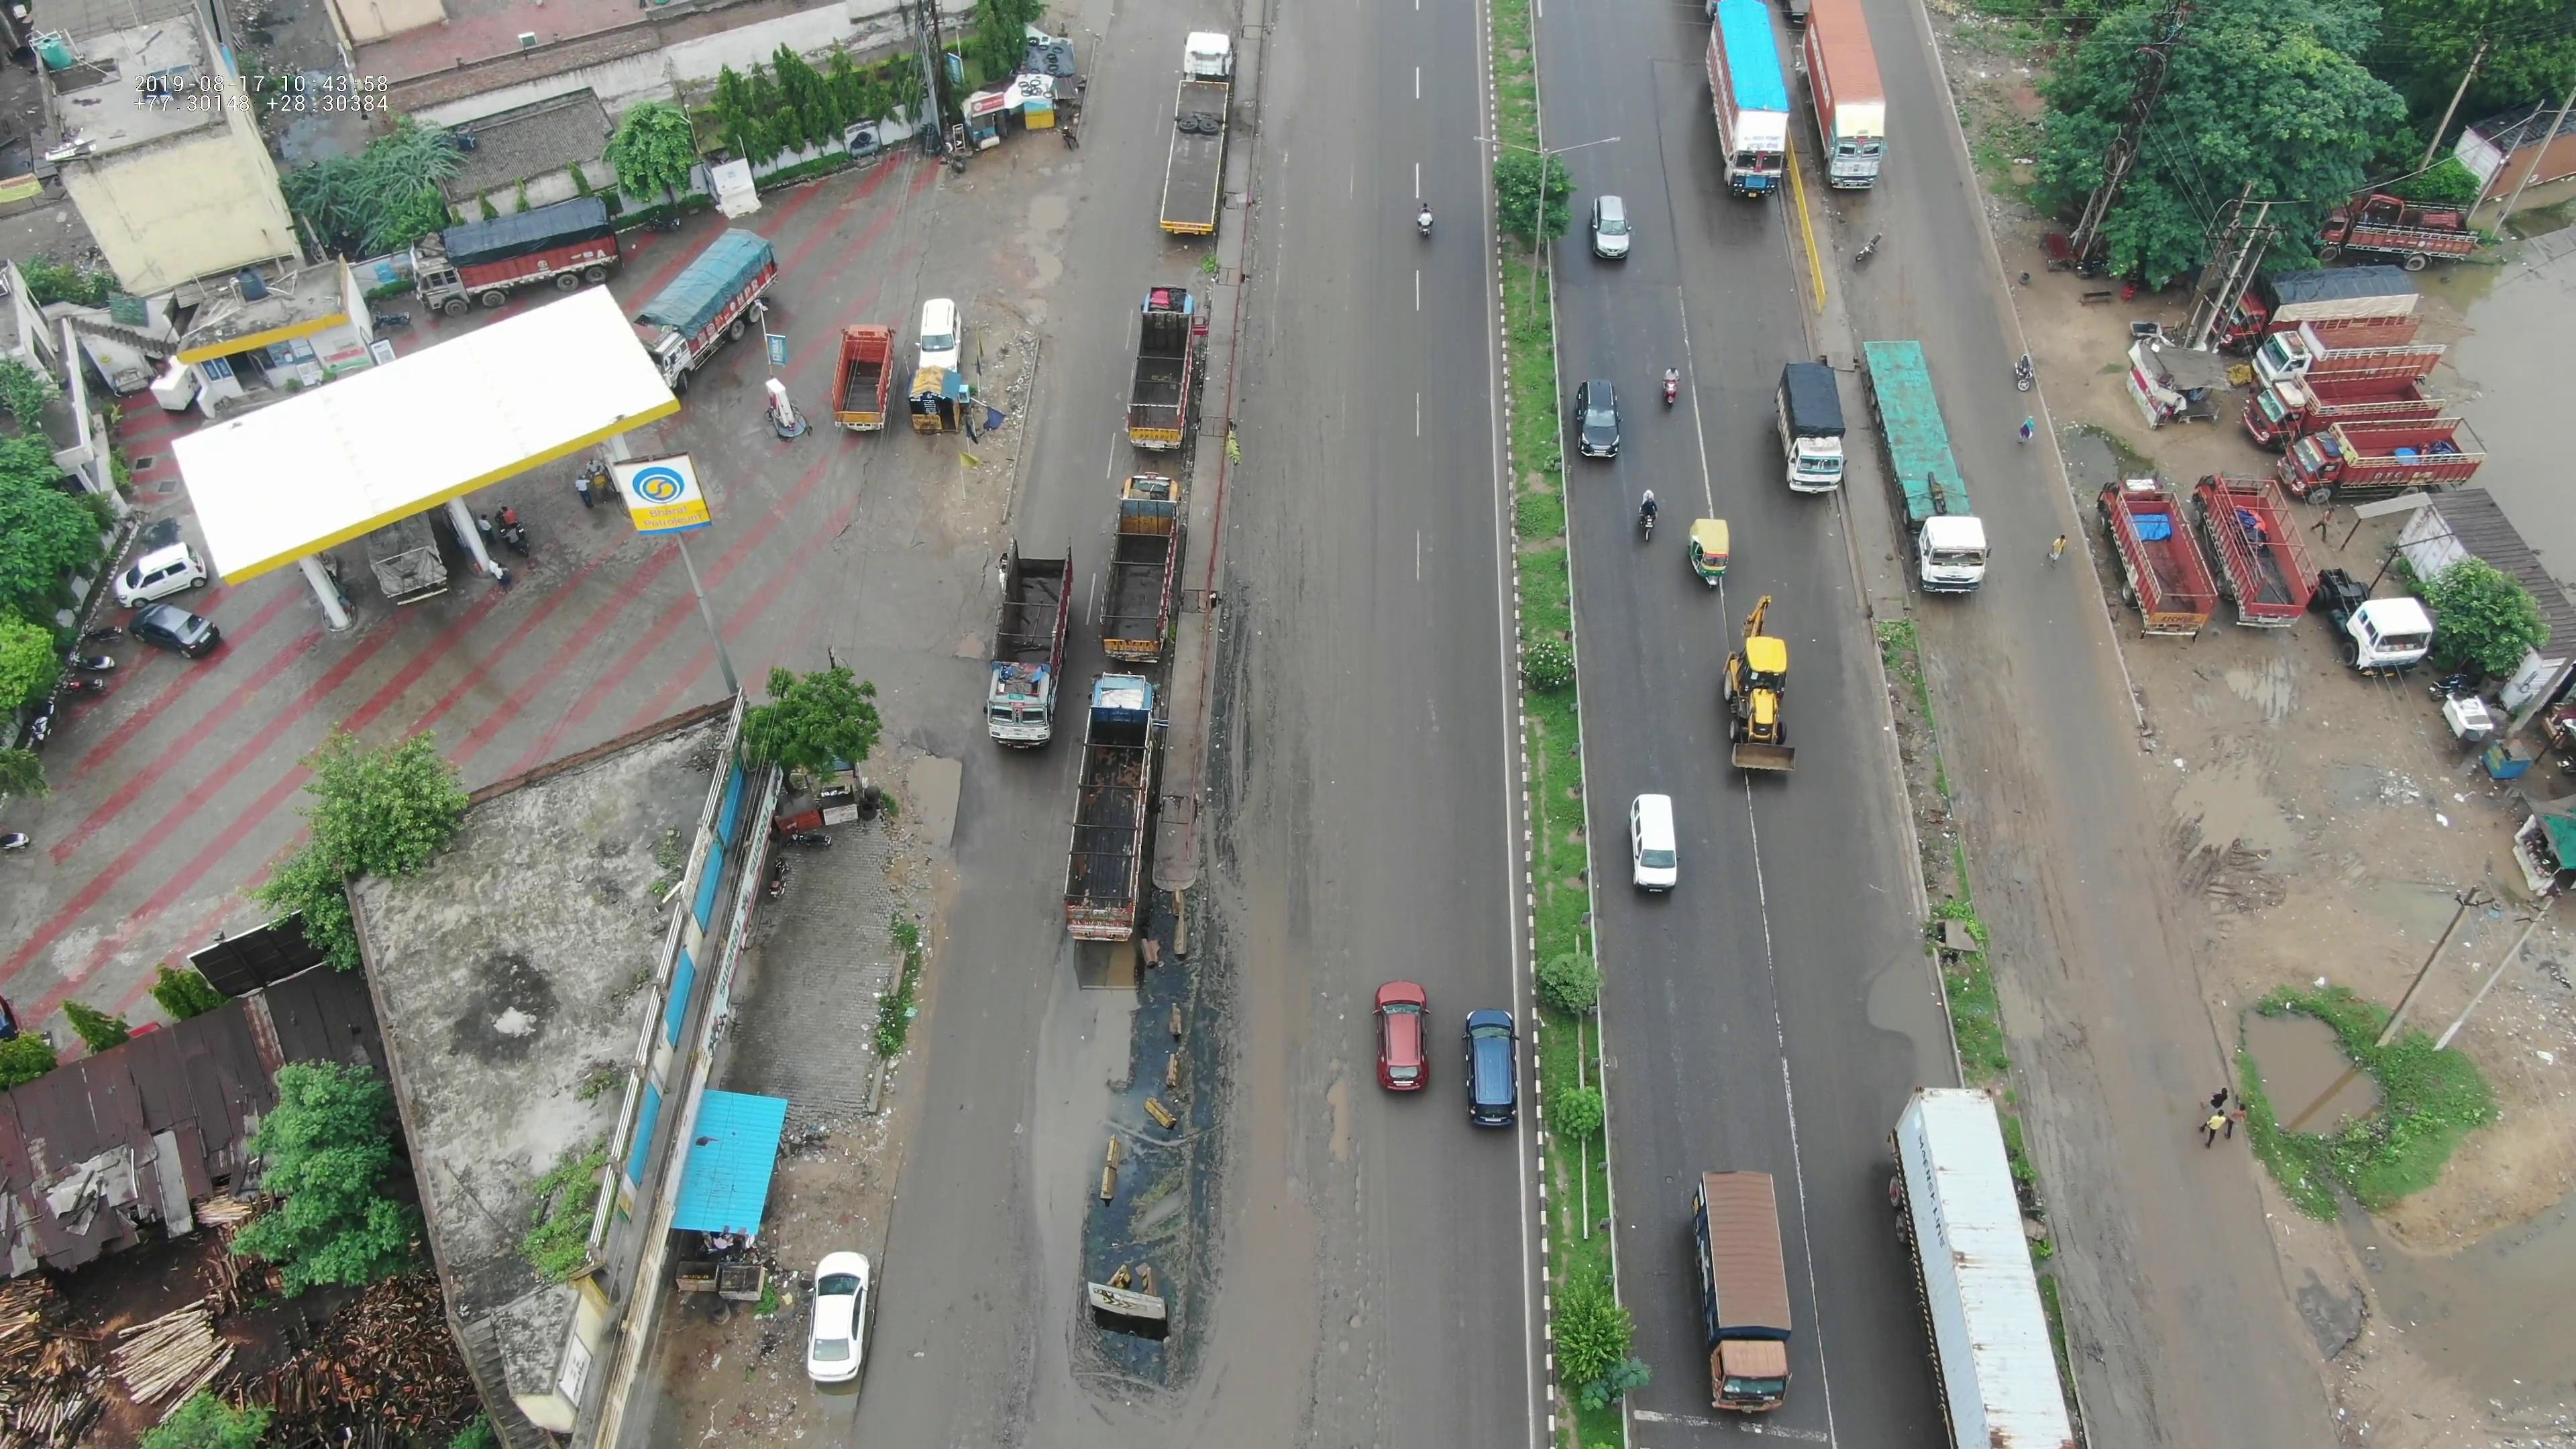Muddy_road: (1200, 598, 1290, 886), (1996, 842, 2088, 1115), (2068, 1171, 2162, 1415), (1921, 609, 2020, 814)
Potholes: (1299, 1189, 1405, 1410), (1295, 966, 1382, 1221), (1007, 149, 1088, 310), (938, 610, 991, 665)
Waterlogging: (1851, 918, 1936, 1077)
